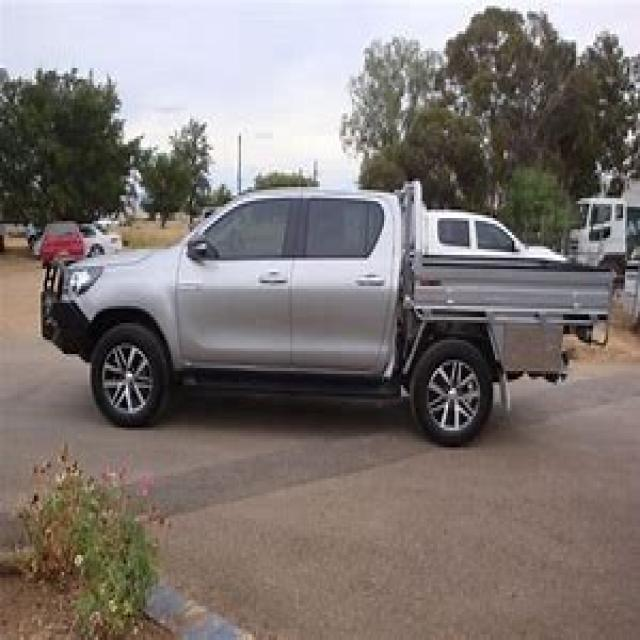light_vehicle: (32, 170, 636, 453)
